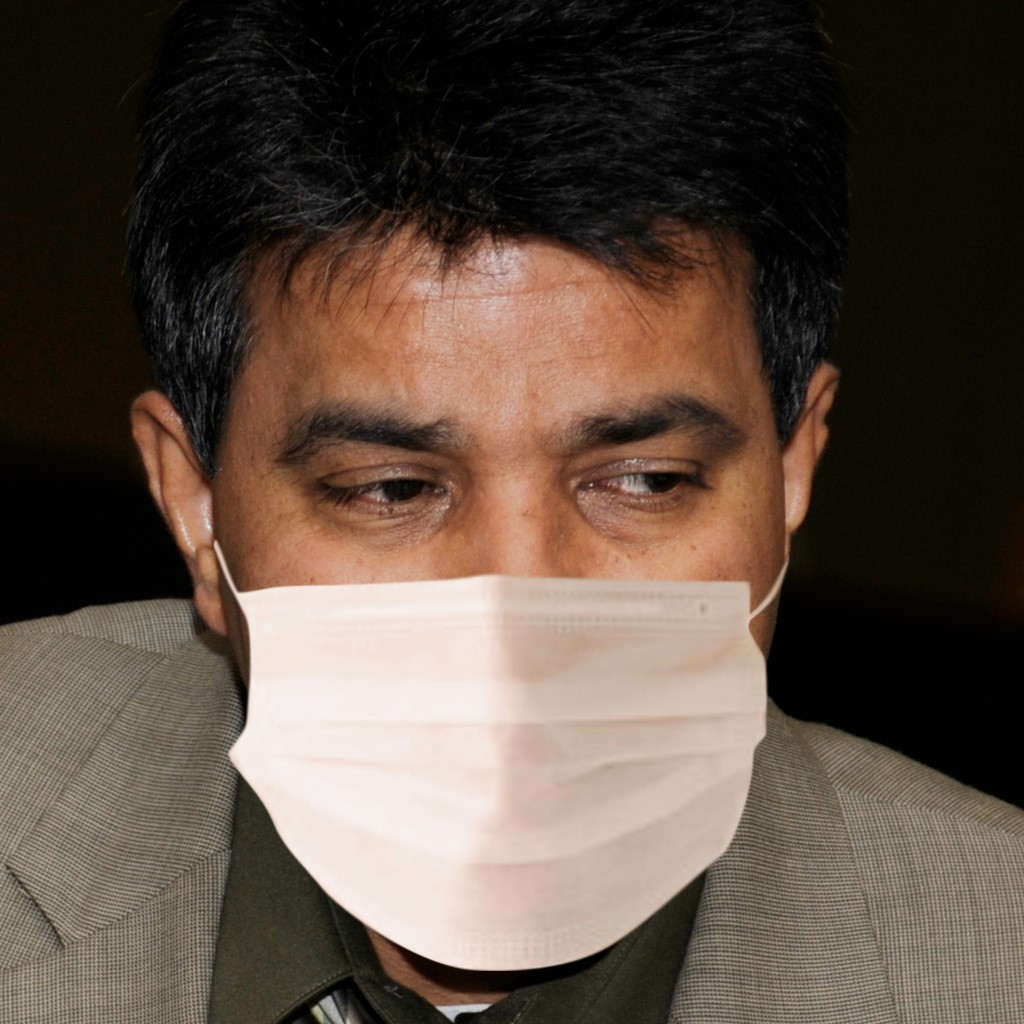con_mascara: (159, 163, 801, 957)
